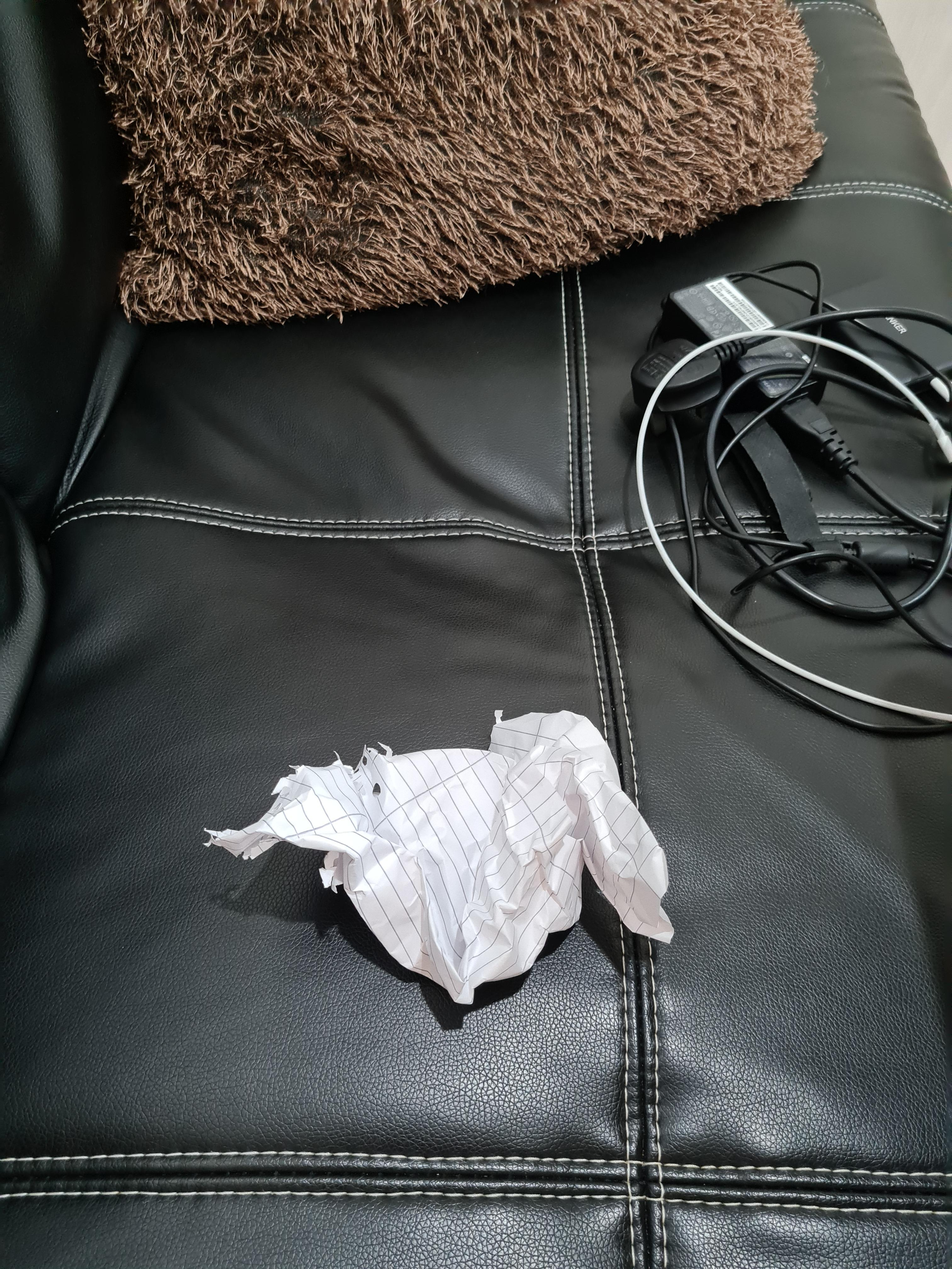paper: (199, 715, 688, 1002)
